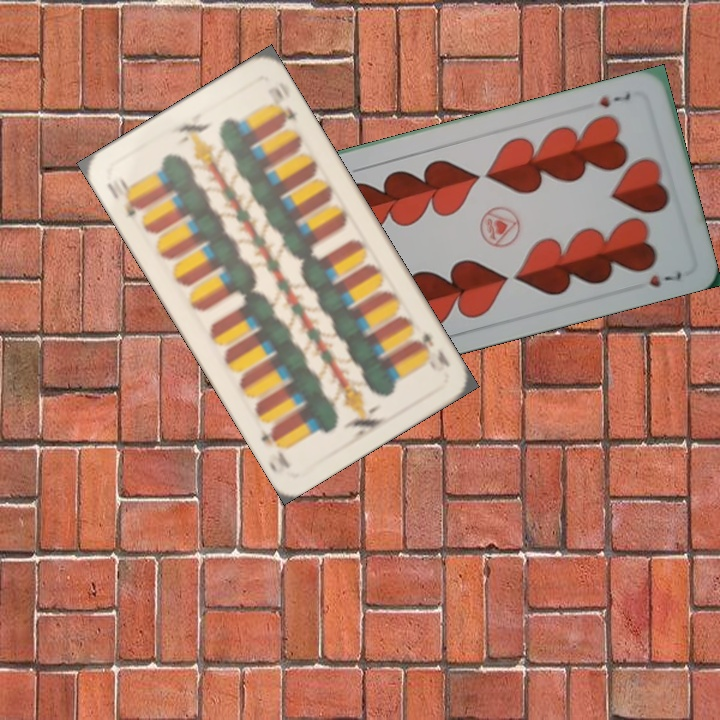E10: (103, 173, 144, 220), (410, 329, 453, 370)
H7: (595, 89, 633, 110)
